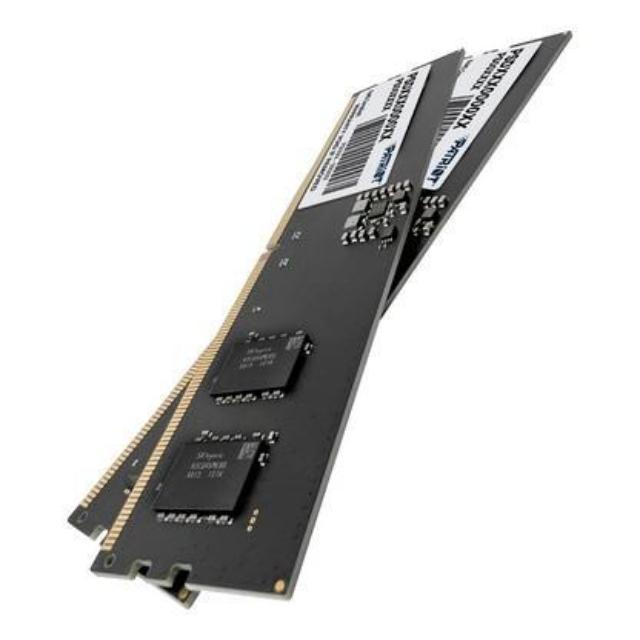RAM: (49, 26, 583, 614)
